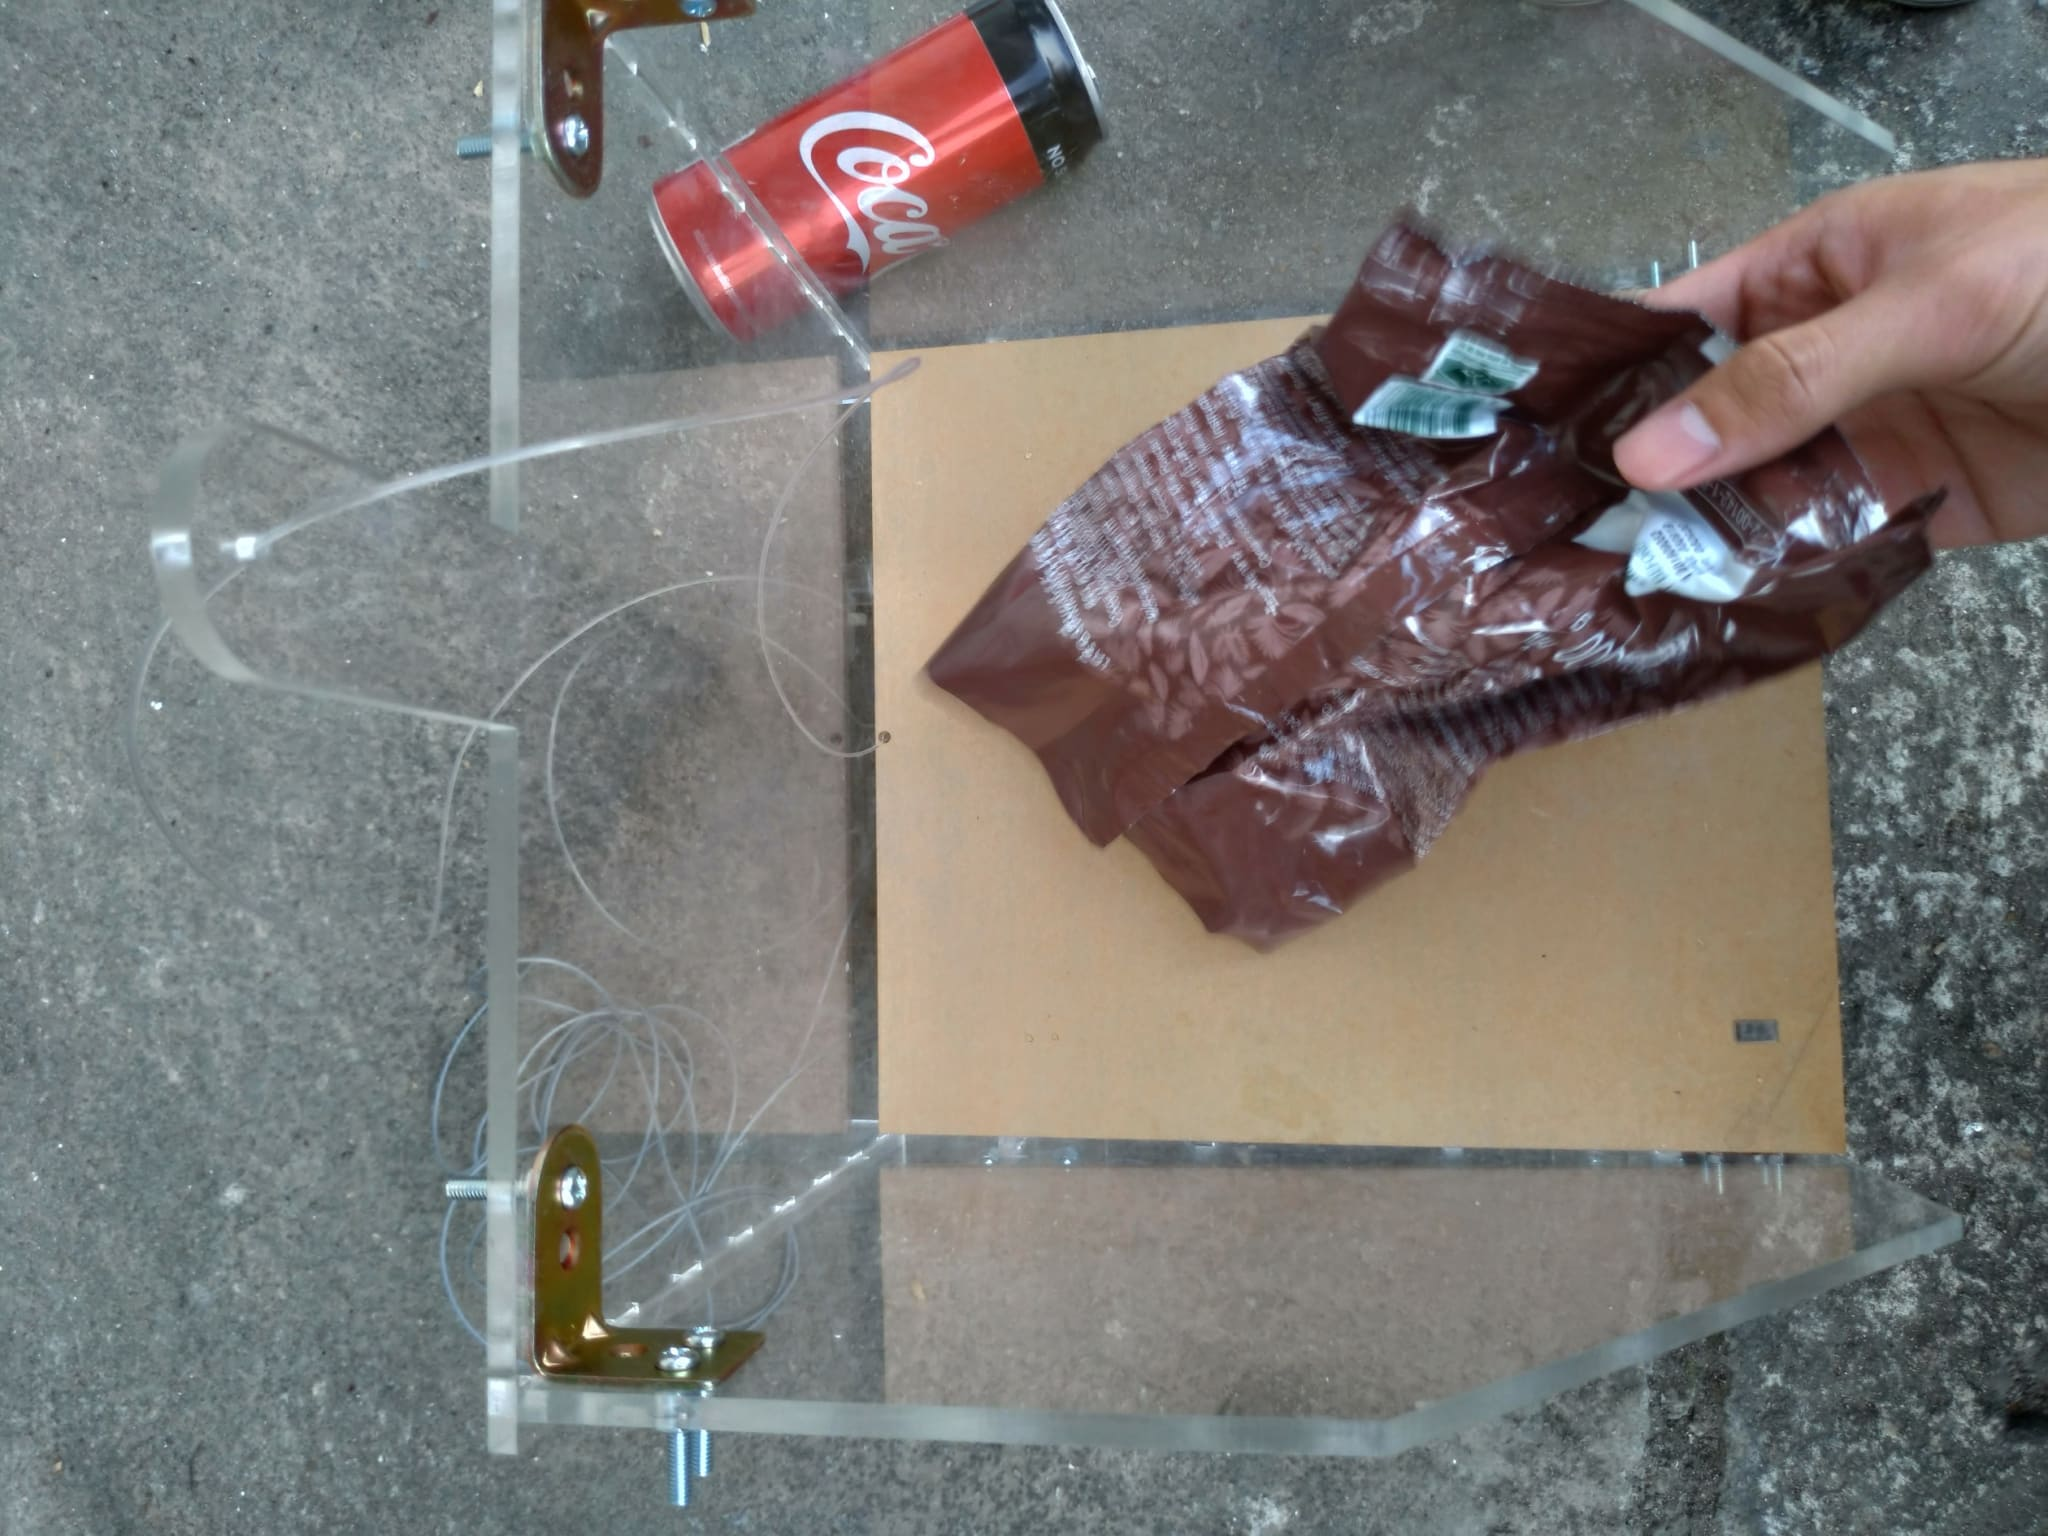AlCan: (634, 15, 1132, 326)
Others: (926, 224, 1946, 968)
